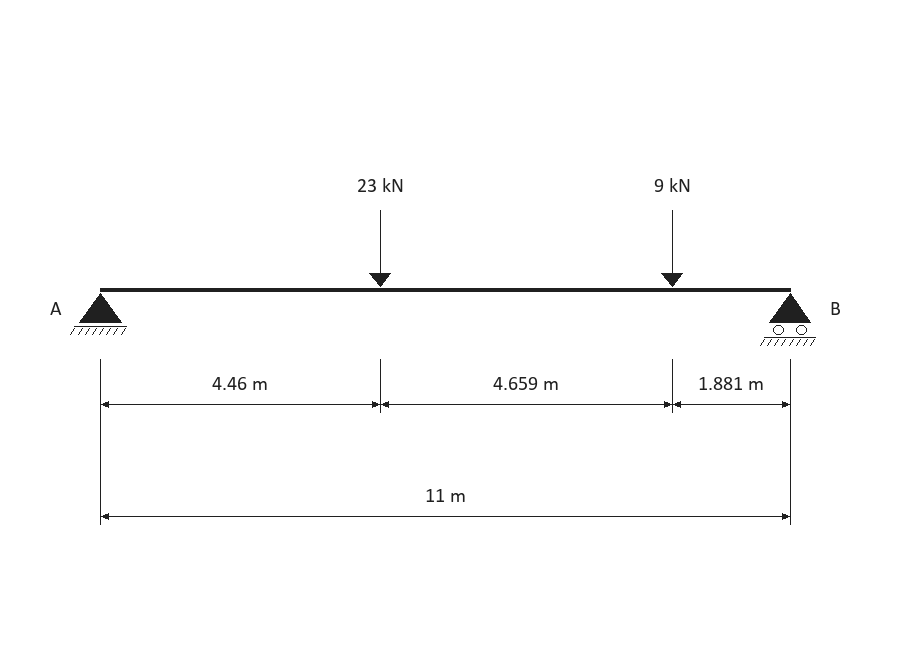pin_support: (70, 293, 127, 335)
point_load: (369, 210, 391, 287), (661, 210, 683, 287)
roller_support: (760, 293, 816, 346)
